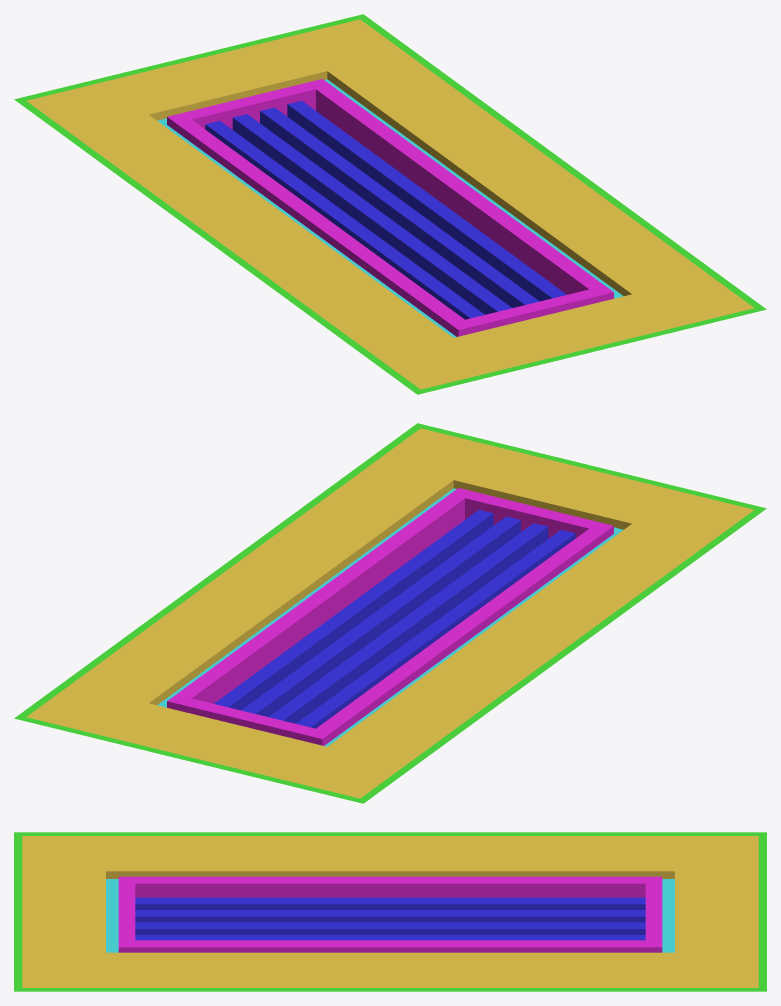
Rendered from Floor_013_F_02.fbx.
3 views of the same model, one above another, from view 1: azimuth 30°, elevation 25°; view 2: azimuth 150°, elevation 25°; view 3: azimuth 270°, elevation 25° (orthographic). The views are drawn at different scales.
Visible parts, largest first — view 1: Floor_013_F_02; view 2: Floor_013_F_02; view 3: Floor_013_F_02.
Boxes of the visible parts, box(x1,y1,x2,y2) form: Floor_013_F_02: box(14, 14, 766, 394); Floor_013_F_02: box(14, 423, 766, 803); Floor_013_F_02: box(14, 832, 766, 991).
Bounding box in the file's own units: 114 × 7.62 × 229.
